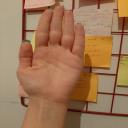OpenPalm: (16, 4, 85, 107)
